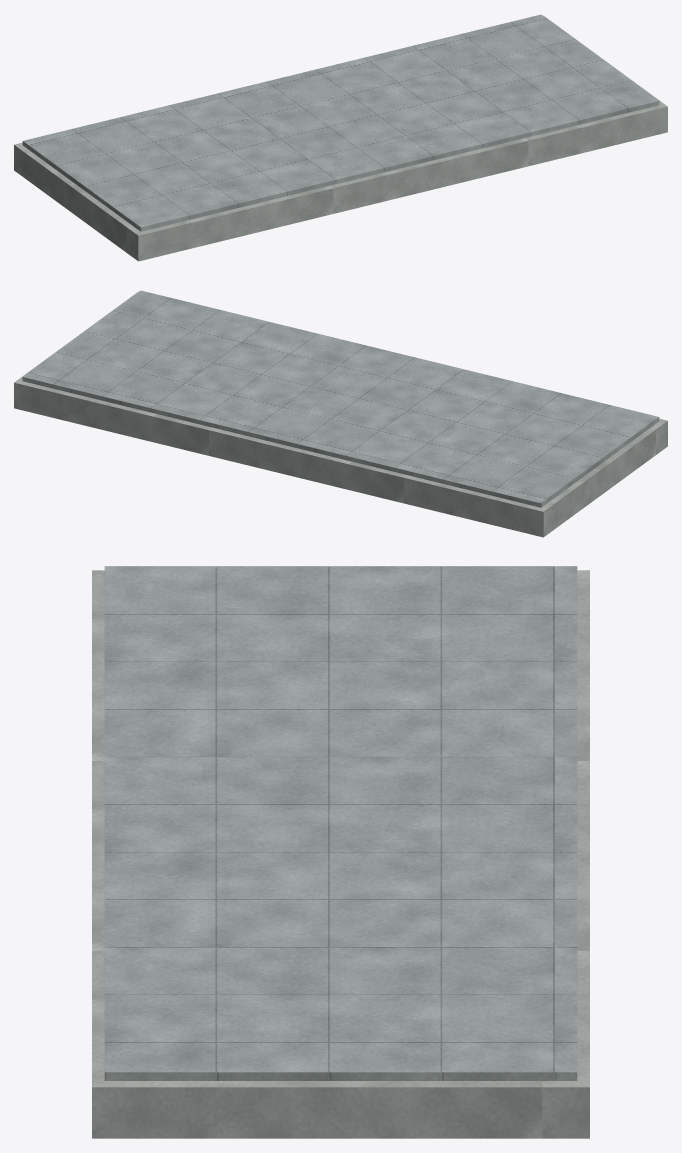
File: Stair_Landing.glb
3 views of the same model, one above another, from view 1: azimuth 30°, elevation 25°; view 2: azimuth 150°, elevation 25°; view 3: azimuth 270°, elevation 25° (orthographic). The views are drawn at different scales.
Visible parts, largest first — view 1: VIS_Landing_Finish_0001, VIS_Mid_Landing_0000; view 2: VIS_Landing_Finish_0001, VIS_Mid_Landing_0000; view 3: VIS_Landing_Finish_0001, VIS_Mid_Landing_0000.
Part boxes in pixels (bbox=[...]): VIS_Landing_Finish_0001: bbox=[22, 14, 659, 231]; VIS_Mid_Landing_0000: bbox=[14, 15, 667, 261]; VIS_Landing_Finish_0001: bbox=[22, 290, 659, 507]; VIS_Mid_Landing_0000: bbox=[14, 291, 667, 537]; VIS_Landing_Finish_0001: bbox=[104, 566, 577, 1080]; VIS_Mid_Landing_0000: bbox=[92, 570, 589, 1138].
Size of the model in its own units: 3.88 by 0.213 by 1.58.
2 materials, 2 textured.
